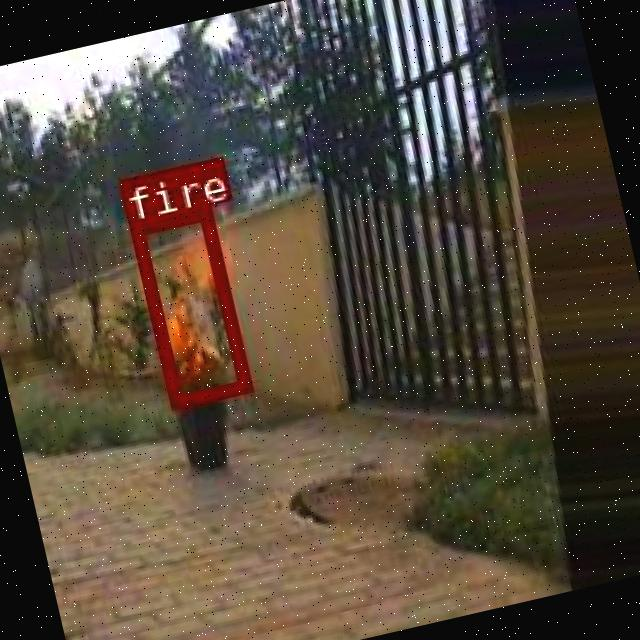fire: (127, 203, 250, 408)
